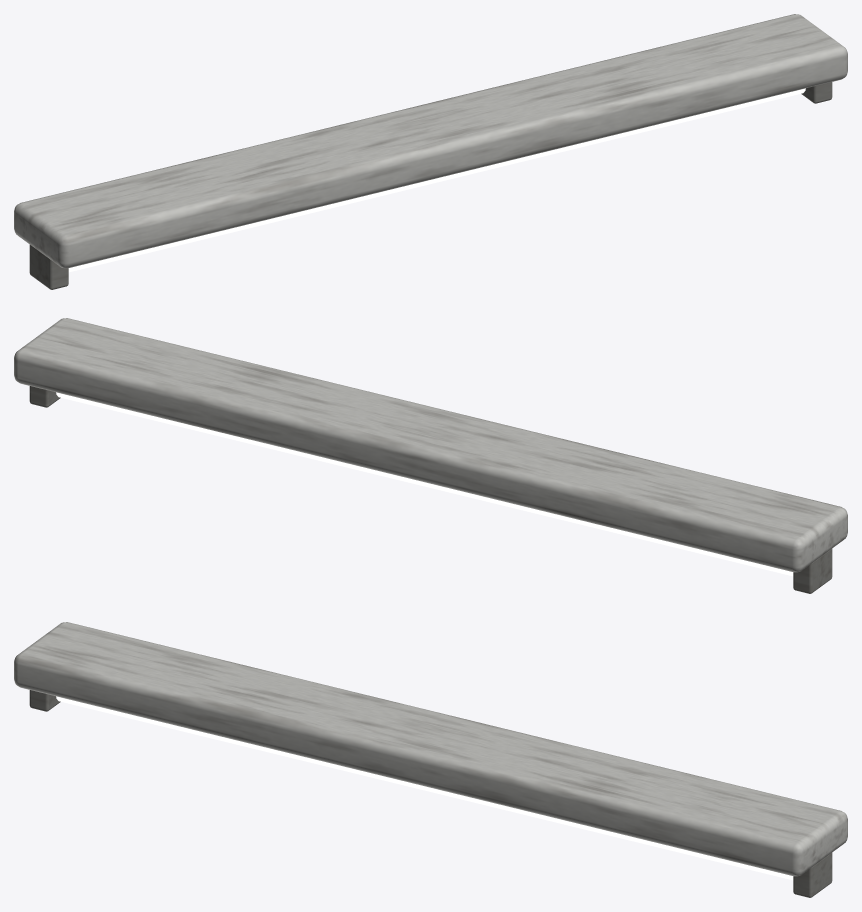
File: dom_lampa_swietlowka.glb
The picture shows the model from 3 angles, top to bottom: view 1: azimuth 30°, elevation 25°; view 2: azimuth 150°, elevation 25°; view 3: azimuth 330°, elevation 25°; orthographic projection.
Parts seen in each view (by area): view 1: Oprawa, Swiatlo; view 2: Oprawa, Swiatlo; view 3: Oprawa, Swiatlo.
Boxes of the visible parts, box(x1,y1,x2,y2) form: Oprawa: box(14, 14, 847, 289); Swiatlo: box(68, 88, 805, 272); Oprawa: box(14, 318, 847, 593); Swiatlo: box(56, 392, 793, 576); Oprawa: box(14, 622, 847, 897); Swiatlo: box(56, 696, 793, 880).
Size of the model in its own units: 1.24 by 0.095 by 0.14.
Materials: 2 (1 with a texture image).
